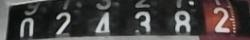digits: (212, 7, 230, 32), (174, 10, 190, 32), (55, 12, 71, 34), (133, 11, 150, 31), (94, 12, 110, 32), (19, 18, 34, 37)
